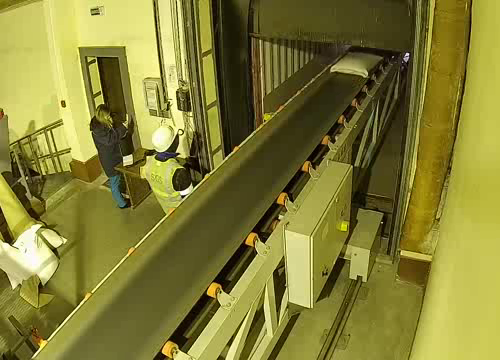bag: (327, 47, 385, 79)
